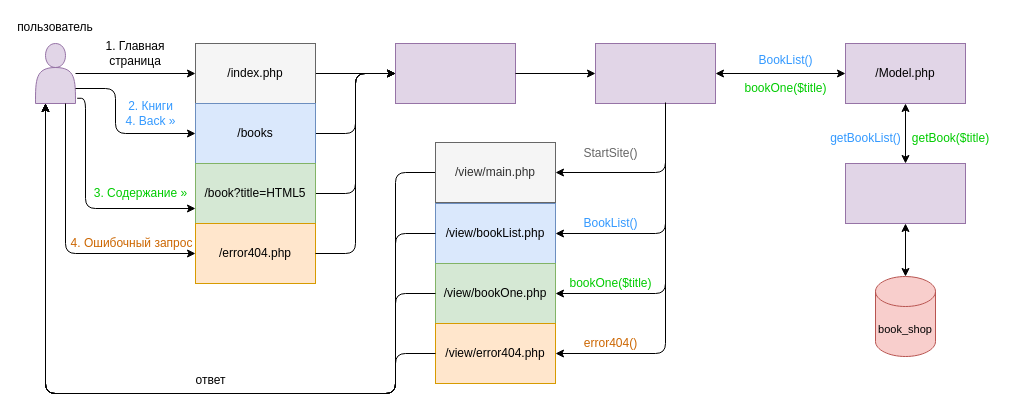
This 1012x419 diagram has some shape labels left out. The shapes that lost their labels are listed below. From the top down, each one's centre as x and y in pixels, then its label:
the point at 455,73: /routing.php
the point at 655,73: /Controller.php
the point at 905,193: /booksArray.php
